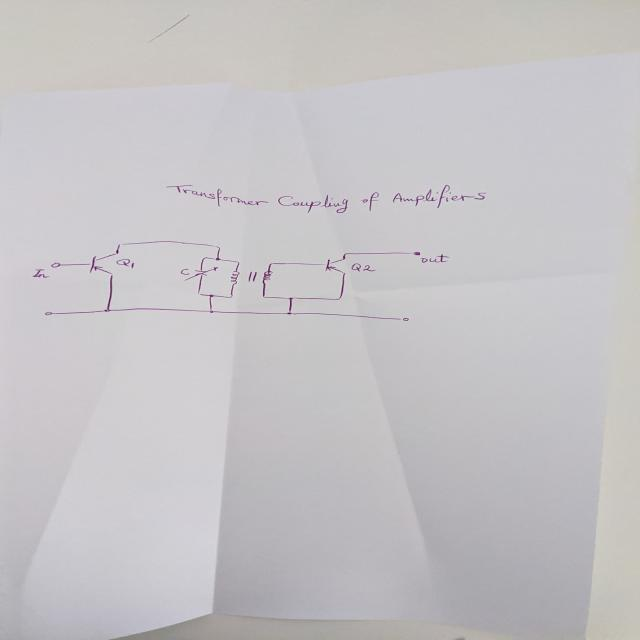capacitor: (183, 266, 218, 281)
junction: (207, 308, 216, 314), (102, 307, 111, 313), (284, 310, 294, 315), (207, 293, 215, 298), (286, 296, 295, 300), (212, 256, 221, 260), (227, 294, 235, 298), (116, 242, 124, 246), (214, 244, 222, 248), (234, 260, 242, 264), (199, 256, 207, 260), (260, 294, 267, 298), (196, 291, 202, 295), (336, 296, 342, 300), (342, 252, 348, 255), (268, 262, 274, 265)
terminal: (49, 262, 61, 268), (408, 251, 422, 256), (398, 317, 410, 321), (44, 311, 53, 316)
text: (164, 184, 487, 214), (419, 253, 450, 263), (350, 262, 376, 272), (114, 258, 135, 269), (30, 268, 50, 278), (179, 268, 191, 275)
transformer: (228, 270, 274, 285)
transistor: (86, 252, 120, 276), (320, 256, 348, 275)
